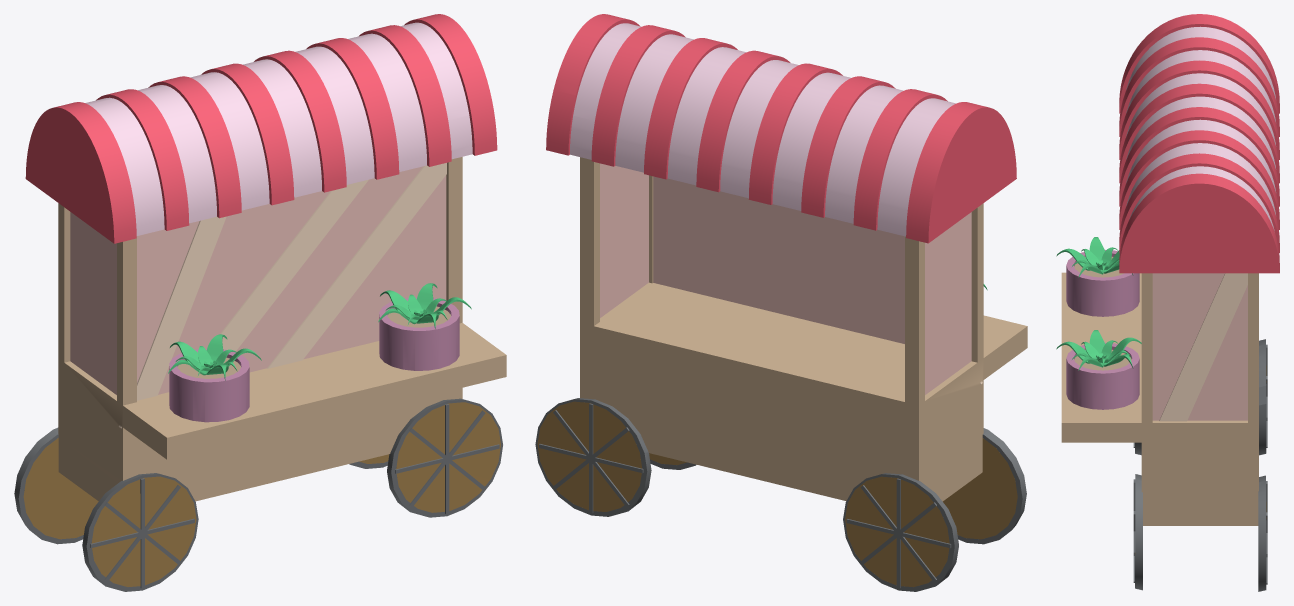
File: Shop.fbx
3 views of the same model, side by side, from view 1: azimuth 30°, elevation 25°; view 2: azimuth 150°, elevation 25°; view 3: azimuth 270°, elevation 25° (orthographic). The views are drawn at different scales.
Visible parts, largest first — view 1: obj_0.004; view 2: obj_0.004; view 3: obj_0.004.
Boxes of the visible parts, box(x1,y1,x2,y2) form: obj_0.004: box(14, 14, 506, 591); obj_0.004: box(535, 14, 1027, 591); obj_0.004: box(1056, 14, 1279, 591).
Bounding box in the file's own units: 12000 × 12640 × 6100.
